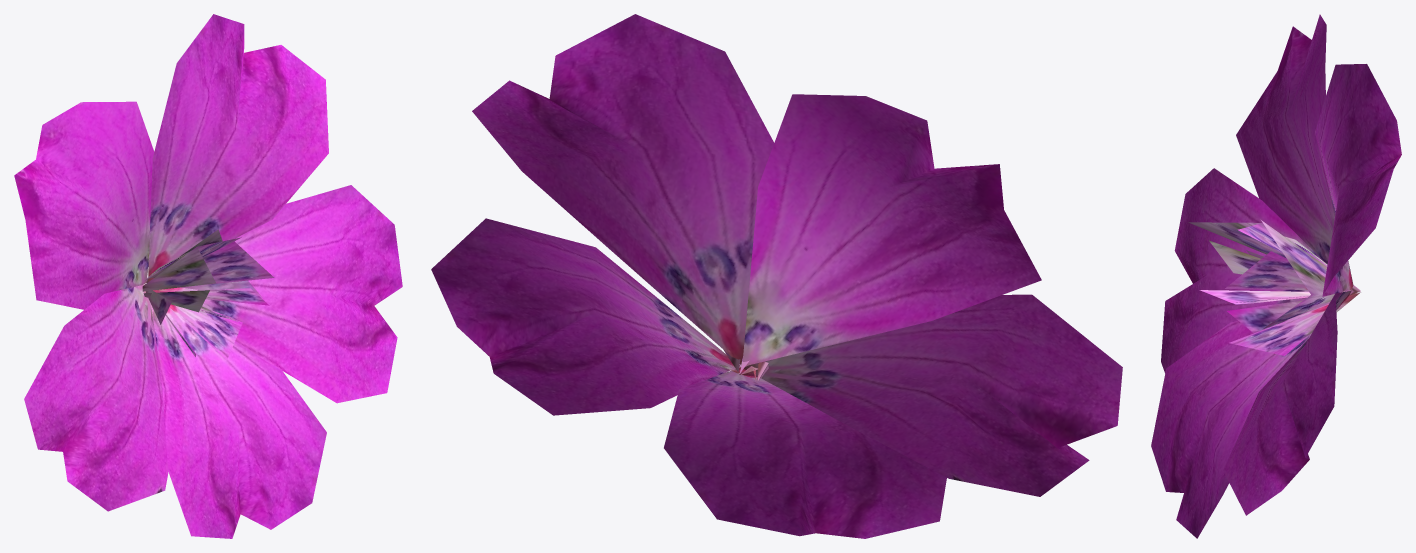
3 views of the same model, side by side, from view 1: azimuth 30°, elevation 25°; view 2: azimuth 150°, elevation 25°; view 3: azimuth 270°, elevation 25° (orthographic). The views are drawn at different scales.
Parts seen in each view (by area): view 1: Geranium Max Frei Flower.003; view 2: Geranium Max Frei Flower.003; view 3: Geranium Max Frei Flower.003.
Boxes of the visible parts, bbox=[...] form: Geranium Max Frei Flower.003: bbox=[14, 14, 402, 538]; Geranium Max Frei Flower.003: bbox=[431, 14, 1122, 538]; Geranium Max Frei Flower.003: bbox=[1151, 14, 1401, 538].
Size of the model in its own units: 1.12 by 1.08 by 0.5176.
Materials: 1 (1 with a texture image).
